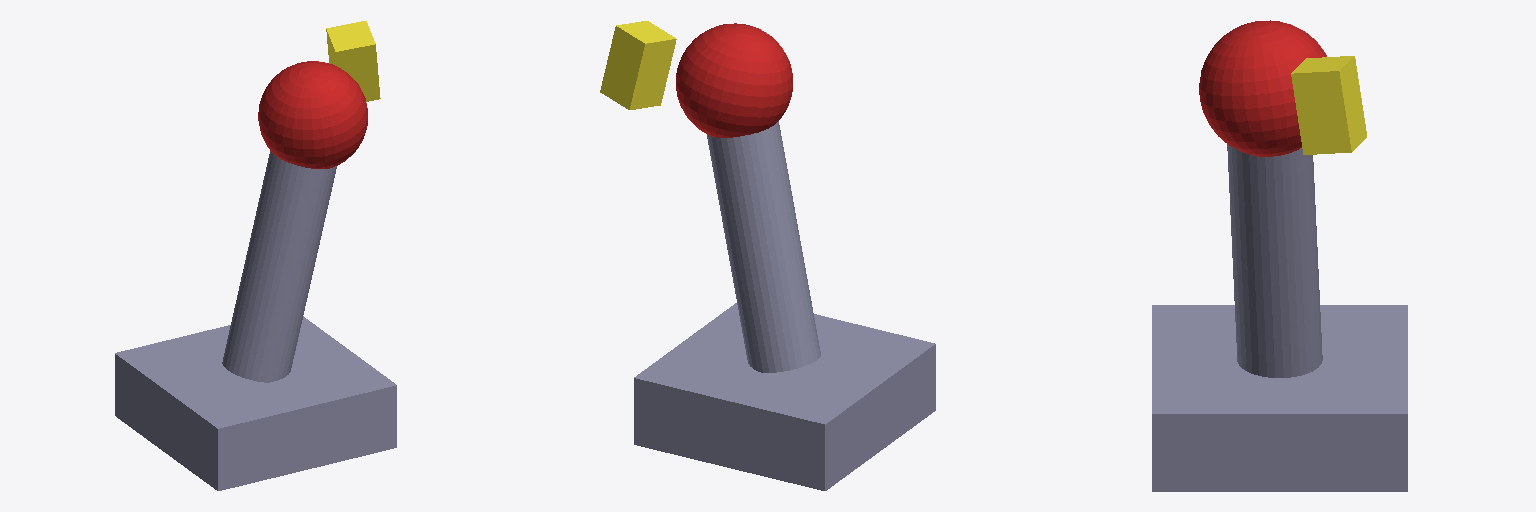
robot.urdf — three_link_arm:
<?xml version="1.0"?>
<!-- Test fixture for phx.assembly.import: a small arm exercising box/cylinder/sphere
     geometries, non-trivial origins and rpy rotations, named and inline
     materials, a revolute + fixed + prismatic joint (the prismatic one has a
     non-trivial axis to exercise the slider-frame mapping), link names that
     need sanitization, and a geometry-less dummy link. -->
<robot name="three_link_arm">

  <material name="steel">
    <color rgba="0.6 0.6 0.7 1.0"/>
  </material>

  <link name="base">
    <inertial>
      <origin xyz="0 0 0.01" rpy="0 0 0"/>
      <mass value="5.0"/>
      <inertia ixx="0.04" ixy="0" ixz="0" iyy="0.04" iyz="0" izz="0.075"/>
    </inertial>
    <visual>
      <origin xyz="0 0 0.05" rpy="0 0 0"/>
      <geometry>
        <box size="0.3 0.3 0.1"/>
      </geometry>
      <material name="steel"/>
    </visual>
  </link>

  <joint name="shoulder-joint" type="revolute">
    <origin xyz="0 0 0.1" rpy="0.1 0.2 0.3"/>
    <parent link="base"/>
    <child link="upper-arm"/>
    <axis xyz="0 1 0"/>
    <limit lower="-1.57" upper="1.57" effort="10" velocity="1"/>
  </joint>

  <link name="upper-arm">
    <inertial>
      <origin xyz="0 0 0.2" rpy="0 0 0"/>
      <mass value="1.2"/>
      <inertia ixx="0.017" ixy="0.001" ixz="0" iyy="0.017" iyz="0" izz="0.0015"/>
    </inertial>
    <visual>
      <origin xyz="0 0 0.2" rpy="0 0 0"/>
      <geometry>
        <cylinder radius="0.05" length="0.4"/>
      </geometry>
      <material name="steel"/>
    </visual>
  </link>

  <joint name="elbow.fix" type="fixed">
    <origin xyz="0 0 0.4" rpy="0 -0.4 0"/>
    <parent link="upper-arm"/>
    <child link="forearm"/>
  </joint>

  <link name="forearm">
    <inertial>
      <mass value="0.8"/>
      <inertia ixx="0.005" ixy="0" ixz="0" iyy="0.005" iyz="0" izz="0.001"/>
    </inertial>
    <visual>
      <geometry>
        <sphere radius="0.08"/>
      </geometry>
      <material>
        <color rgba="0.8 0.2 0.2 1.0"/>
      </material>
    </visual>
  </link>

  <joint name="wrist_slide" type="prismatic">
    <origin xyz="0.1 0 0" rpy="0 0 1.0"/>
    <parent link="forearm"/>
    <child link="hand"/>
    <axis xyz="1 0 0"/>
    <limit lower="0" upper="0.1" effort="5" velocity="0.5"/>
  </joint>

  <link name="hand">
    <inertial>
      <mass value="0.5"/>
      <inertia ixx="0.002" ixy="0" ixz="0" iyy="0.002" iyz="0" izz="0.002"/>
    </inertial>
    <visual>
      <origin xyz="0.05 0 0" rpy="0 1.5707963 0"/>
      <geometry>
        <box size="0.1 0.06 0.06"/>
      </geometry>
    </visual>
  </link>

  <joint name="tool_mount" type="fixed">
    <origin xyz="0.1 0 0"/>
    <parent link="hand"/>
    <child link="tool-frame"/>
  </joint>

  <link name="tool-frame"/>

</robot>

--- Facts derived from the render (not from the file) ---
Views: 3 orthographic renders of the robot side by side, from view 1: azimuth 30°, elevation 25°; view 2: azimuth 150°, elevation 25°; view 3: azimuth 270°, elevation 25°.
Model three_link_arm with 5 links and 4 joints (1 revolute, 1 prismatic, 2 fixed), rooted at base, posed every joint at zero.
Visible links, largest first — view 1: base, upper-arm, forearm, hand; view 2: base, upper-arm, forearm, hand; view 3: base, upper-arm, forearm, hand.
Boxes of the visible links, <box> form: base: <box>115,316,396,490</box>; upper-arm: <box>222,151,336,382</box>; forearm: <box>258,61,367,168</box>; hand: <box>326,21,380,101</box>; base: <box>634,303,935,490</box>; upper-arm: <box>707,121,820,372</box>; forearm: <box>676,23,792,137</box>; hand: <box>600,21,676,109</box>; base: <box>1152,305,1407,491</box>; upper-arm: <box>1227,144,1322,377</box>; forearm: <box>1199,20,1326,156</box>; hand: <box>1291,56,1366,154</box>.
Bounding box of the posed robot: 0.3911 × 0.3 × 0.577 m (x, y, z).
Geometry: primitives only (box / cylinder / sphere), no mesh files.
